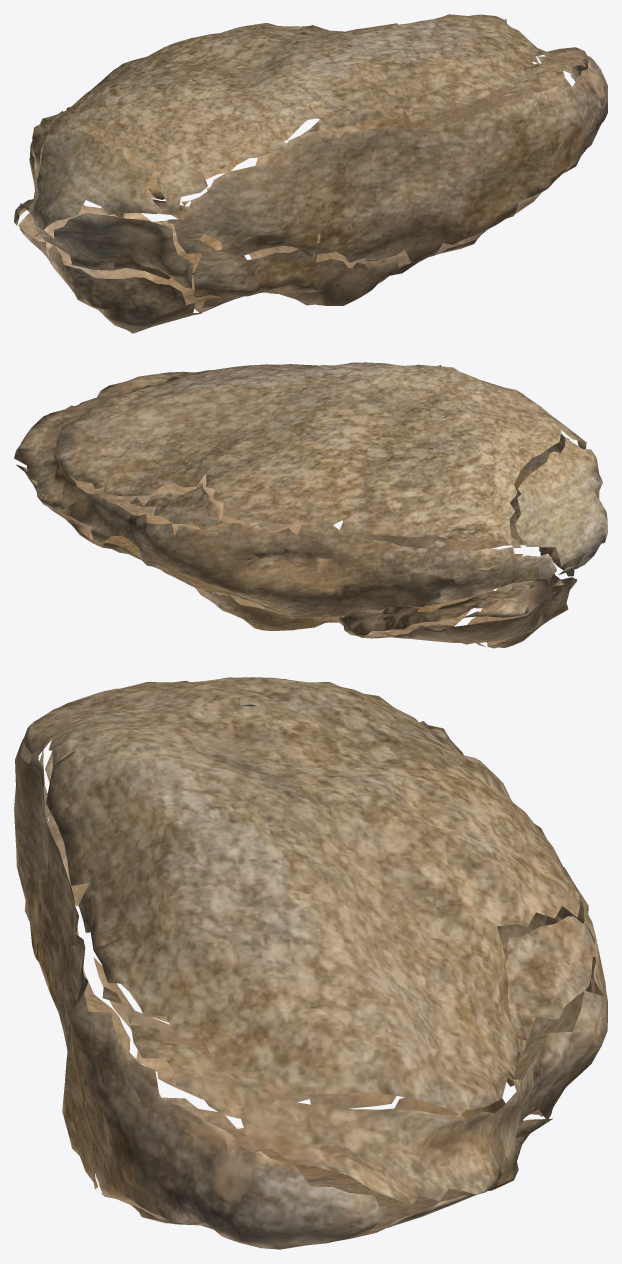
Rendered from boulder-c.glb.
The picture shows the model from 3 angles, top to bottom: view 1: azimuth 30°, elevation 25°; view 2: azimuth 150°, elevation 25°; view 3: azimuth 270°, elevation 25°; orthographic projection. The views are drawn at different scales.
Visible parts, largest first — view 1: namaqualand_boulder_05; view 2: namaqualand_boulder_05; view 3: namaqualand_boulder_05.
Boxes of the visible parts, x1,y1,x2,y2 form: namaqualand_boulder_05: (14,14,607,333); namaqualand_boulder_05: (14,362,607,648); namaqualand_boulder_05: (14,677,607,1249).
Size of the model in its own units: 1.35 by 0.5248 by 0.7351.
Materials: 1 (1 with a texture image).
